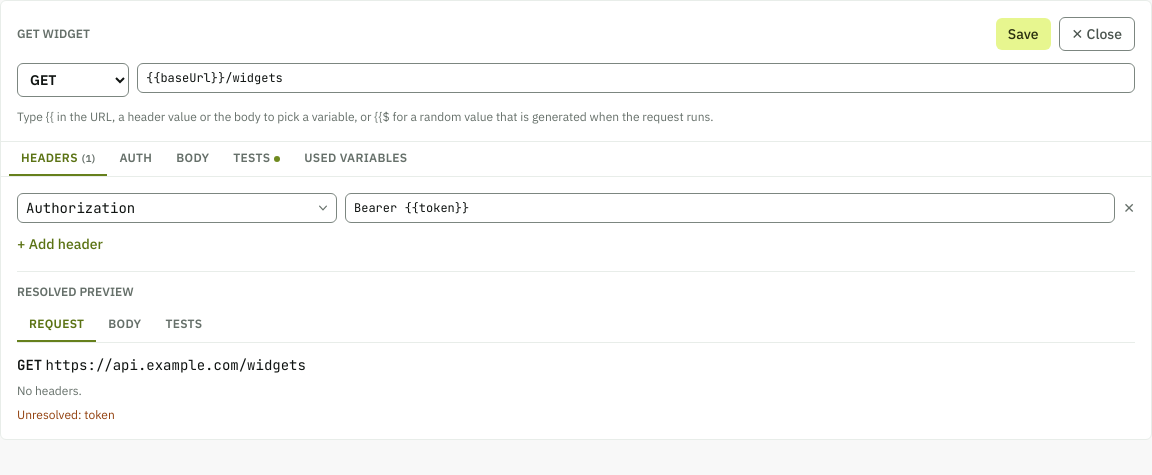
Scenario: RequestEditorPanel › tabs the resolved preview into Request/Body/Tests sections
The image size is (1152, 475).
Expected: the text "https://api.example.com/widgets" is shown, [46,356,306,374]
Expected: the text "{\"a\":1}" is not shown
Click the tab "Body" below "Resolved preview".
click(125, 325)  # box [96,308,153,342]
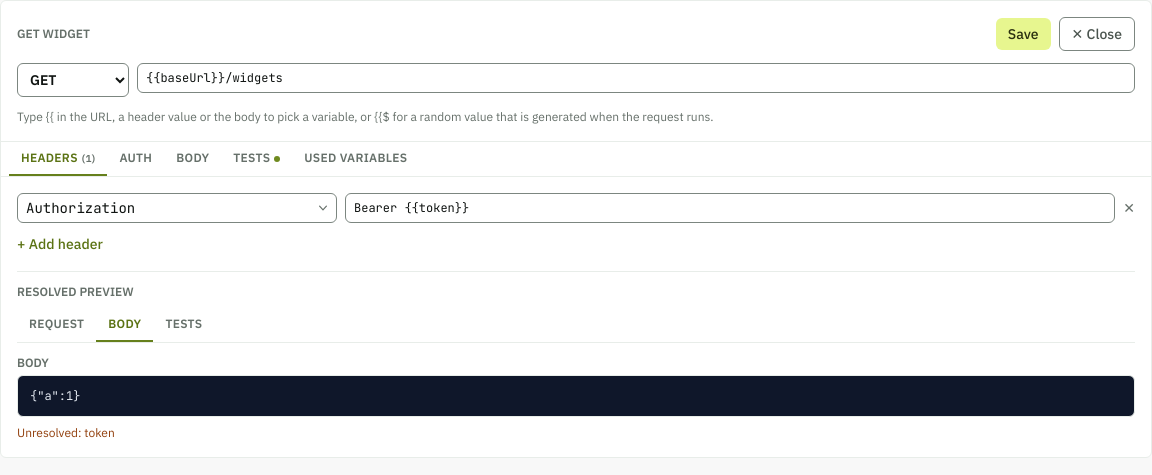
Result: the text "{\"a\":1}" is shown at [30,388,80,404]
Click the tab "Tests" below "Resolved preview".
click(184, 325)  # box [153,308,214,342]
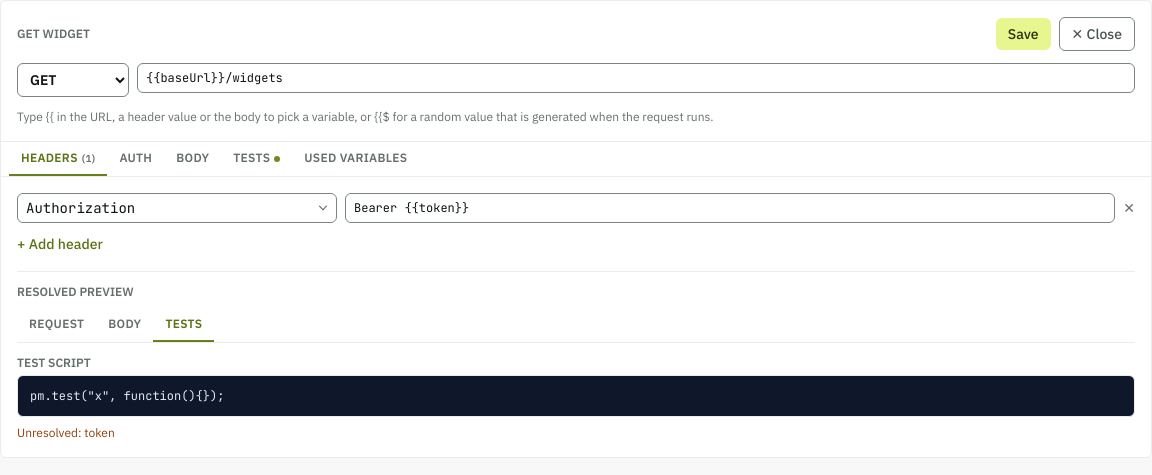
Result: the text "pm.test(\"x\", function(){});" is shown at [30,388,224,404]
